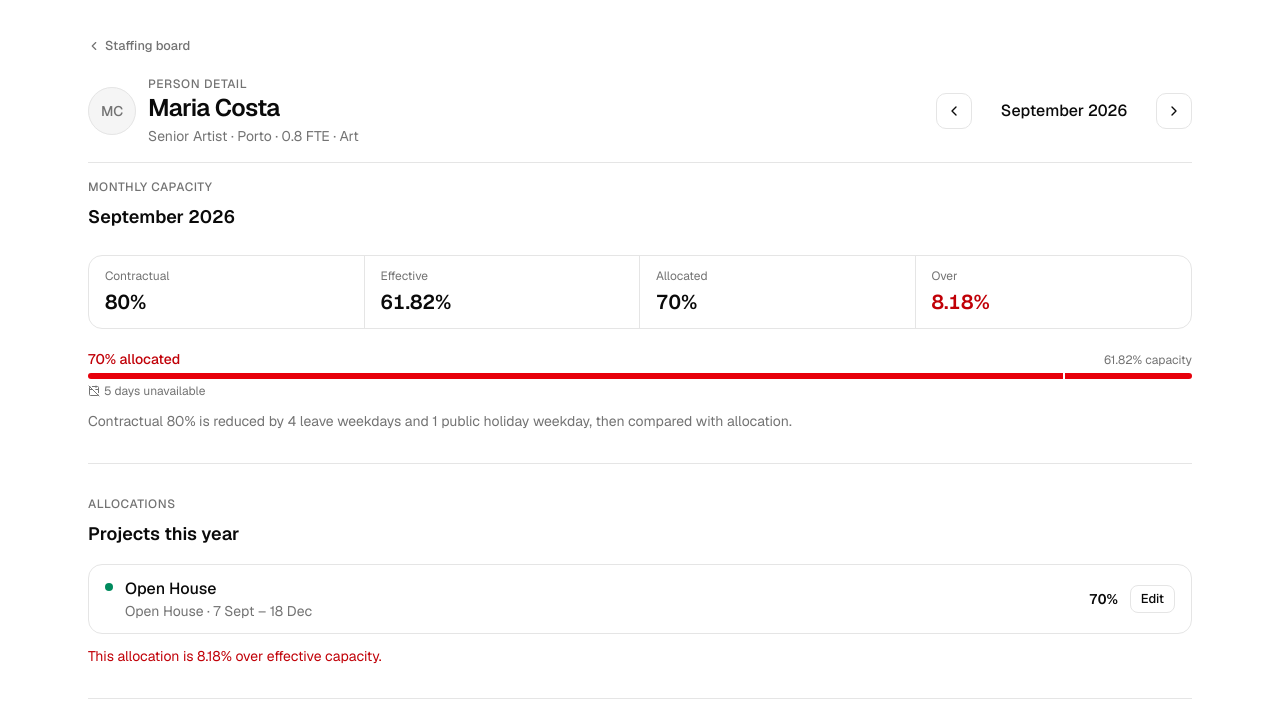
PersonDetailView › previews allocation with the status pill instead of help copy
Click the button "Edit": click(1152, 599) x1=1130 y1=585 x2=1175 y2=613
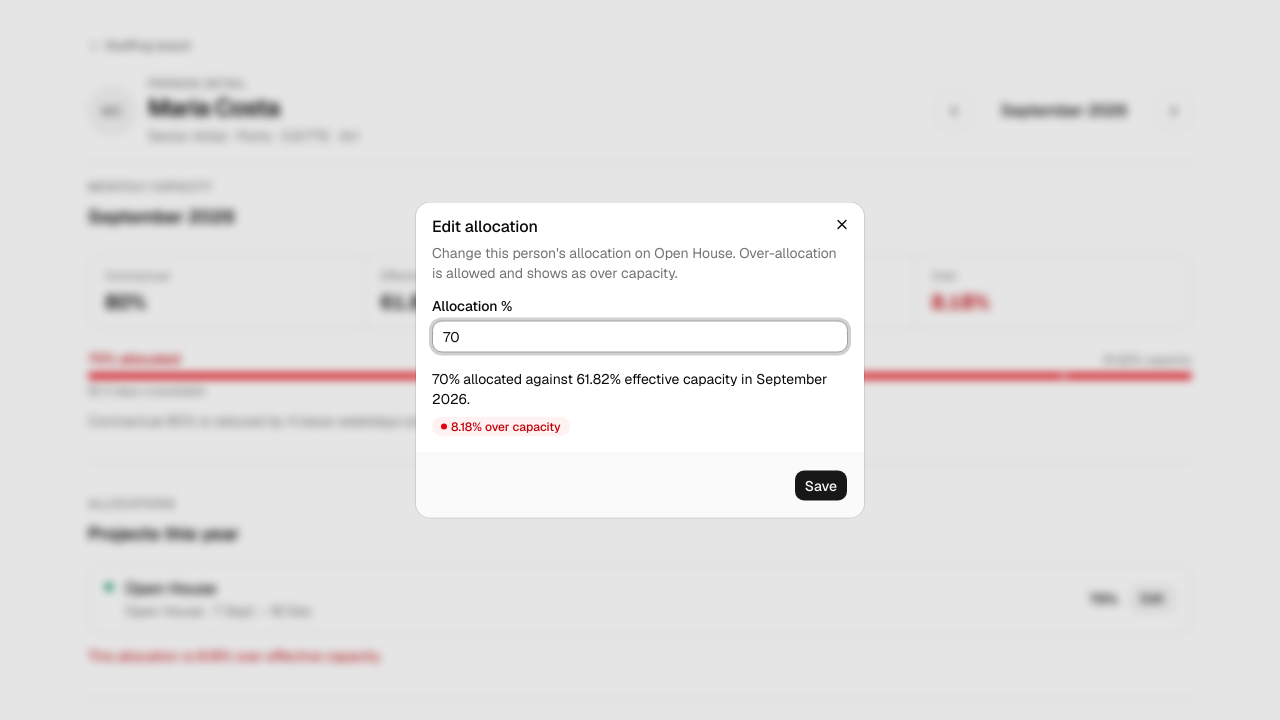
Result: the text "70% allocated against 61.82% effective capacity in September 2026." is shown at x1=432 y1=368 x2=848 y2=408
Result: the text "8.18% over capacity" is shown at x1=432 y1=416 x2=570 y2=436
